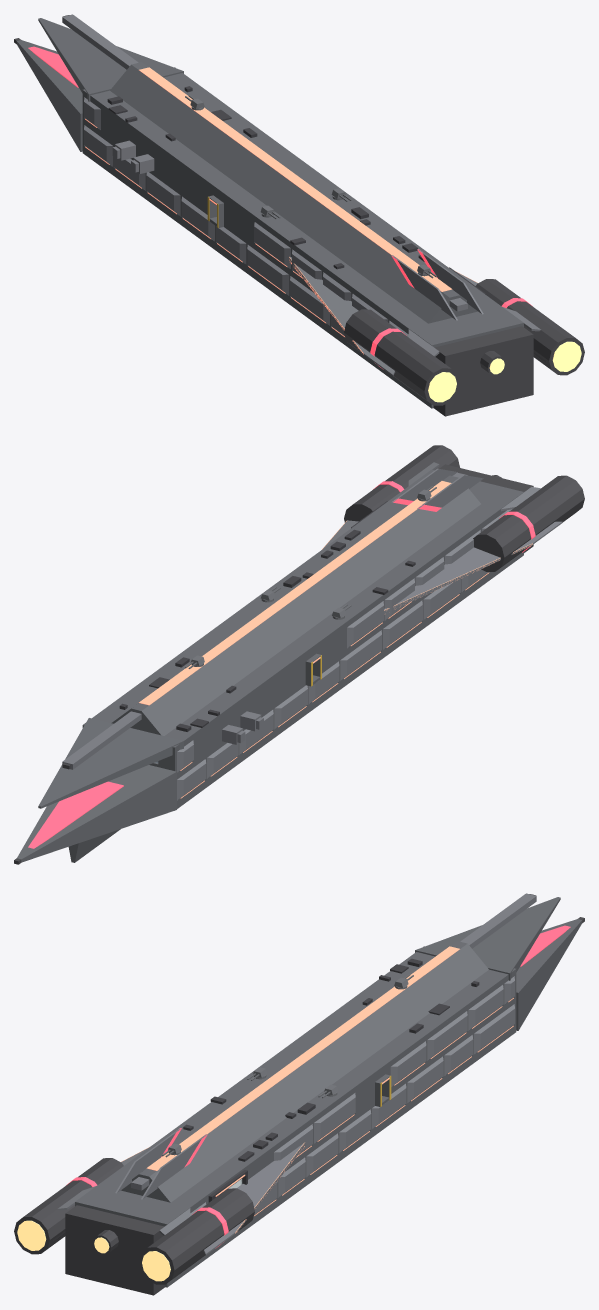
Rendered from ship_SMALL_DROP_FRIGATE_v3.glb.
3 renders of one model, top to bottom at view 1: azimuth 30°, elevation 25°; view 2: azimuth 150°, elevation 25°; view 3: azimuth 330°, elevation 25°, orthographic.
Visible parts, largest first — view 1: SMALL_DROP_FRIGATE_Hull-col, SMALL_DROP_FRIGATE_Engines, SMALL_DROP_FRIGATE_Armor, SMALL_DROP_FRIGATE_Lights, SMALL_DROP_FRIGATE_EngineGlow, SMALL_DROP_FRIGATE_Details, SMALL_DROP_FRIGATE_Accent; view 2: SMALL_DROP_FRIGATE_Hull-col, SMALL_DROP_FRIGATE_Armor, SMALL_DROP_FRIGATE_Engines, SMALL_DROP_FRIGATE_Lights, SMALL_DROP_FRIGATE_Accent, SMALL_DROP_FRIGATE_Details; view 3: SMALL_DROP_FRIGATE_Hull-col, SMALL_DROP_FRIGATE_Armor, SMALL_DROP_FRIGATE_Engines, SMALL_DROP_FRIGATE_Lights, SMALL_DROP_FRIGATE_EngineGlow, SMALL_DROP_FRIGATE_Details, SMALL_DROP_FRIGATE_Accent.
Boxes of the visible parts, x1,y1,x2,y2 form: SMALL_DROP_FRIGATE_Hull-col: (16,18,523,408); SMALL_DROP_FRIGATE_Engines: (14,15,584,416); SMALL_DROP_FRIGATE_Armor: (62,14,540,375); SMALL_DROP_FRIGATE_Lights: (85,67,477,354); SMALL_DROP_FRIGATE_EngineGlow: (428,341,581,402); SMALL_DROP_FRIGATE_Details: (107,86,424,269); SMALL_DROP_FRIGATE_Accent: (28,46,532,369); SMALL_DROP_FRIGATE_Hull-col: (17,469,523,862); SMALL_DROP_FRIGATE_Armor: (62,462,562,800); SMALL_DROP_FRIGATE_Engines: (14,445,584,864); SMALL_DROP_FRIGATE_Lights: (139,481,532,798); SMALL_DROP_FRIGATE_Accent: (28,481,535,848); SMALL_DROP_FRIGATE_Details: (119,529,415,731); SMALL_DROP_FRIGATE_Hull-col: (75,897,582,1287); SMALL_DROP_FRIGATE_Armor: (58,893,536,1254); SMALL_DROP_FRIGATE_Engines: (14,894,584,1295); SMALL_DROP_FRIGATE_Lights: (121,946,513,1233); SMALL_DROP_FRIGATE_EngineGlow: (17,1220,170,1281); SMALL_DROP_FRIGATE_Details: (183,958,479,1161); SMALL_DROP_FRIGATE_Accent: (66,925,570,1248).
Size of the model in its own units: 25.51 by 16.45 by 127.
